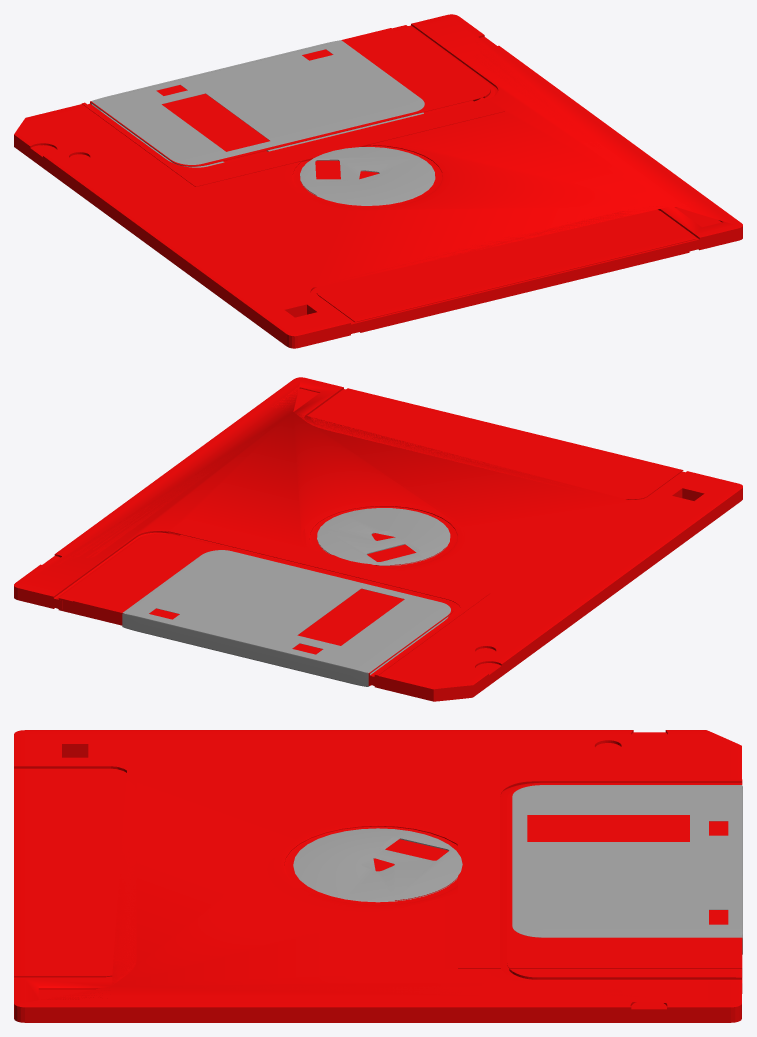
The model's file is Floppy1.fbx.
3 views of the same model, one above another, from view 1: azimuth 30°, elevation 25°; view 2: azimuth 150°, elevation 25°; view 3: azimuth 270°, elevation 25° (orthographic). The views are drawn at different scales.
Visible parts, largest first — view 1: Cube.002, Cylinder.001; view 2: Cube.002, Cylinder.001; view 3: Cube.002, Cylinder.001.
Boxes of the visible parts, bbox=[...] form: Cube.002: bbox=[14, 14, 742, 348]; Cylinder.001: bbox=[91, 40, 435, 205]; Cube.002: bbox=[14, 377, 742, 701]; Cylinder.001: bbox=[122, 508, 450, 686]; Cube.002: bbox=[14, 730, 742, 1022]; Cylinder.001: bbox=[293, 785, 742, 954].
Bounding box in the file's own units: 659 × 21.5 × 732.
